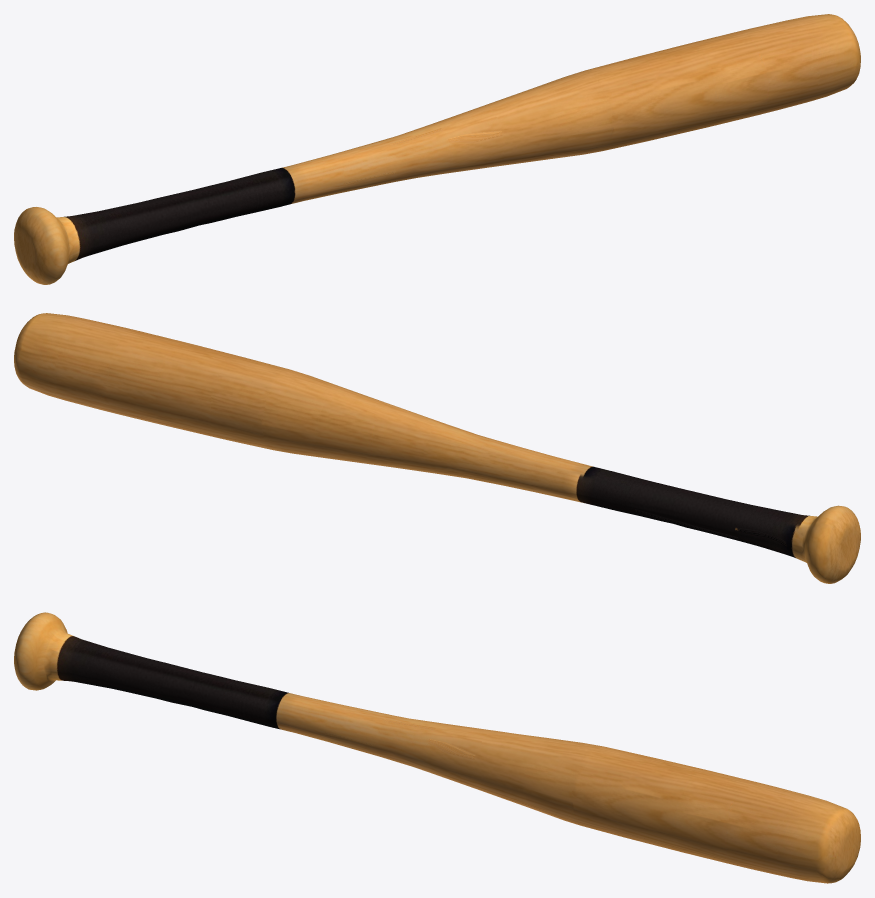
Rendered from bat.glb.
The picture shows the model from 3 angles, top to bottom: view 1: azimuth 30°, elevation 25°; view 2: azimuth 150°, elevation 25°; view 3: azimuth 330°, elevation 25°; orthographic projection.
Visible parts, largest first — view 1: bat; view 2: bat; view 3: bat.
Part boxes in pixels (x1,y1,x2,y2): bat: (14, 14, 860, 284); bat: (14, 313, 860, 583); bat: (14, 612, 860, 883).
Size of the model in its own units: 1 by 0.0905 by 0.0904.
Materials: 1 (1 with a texture image).
